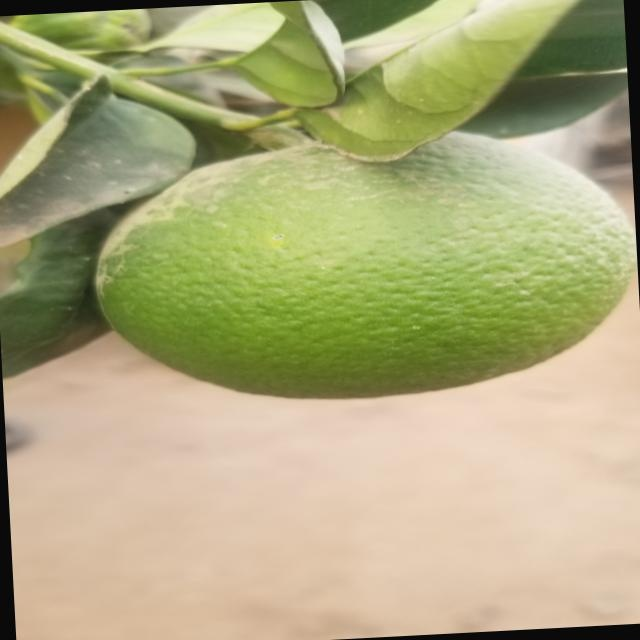agrume: (62, 119, 638, 418)
